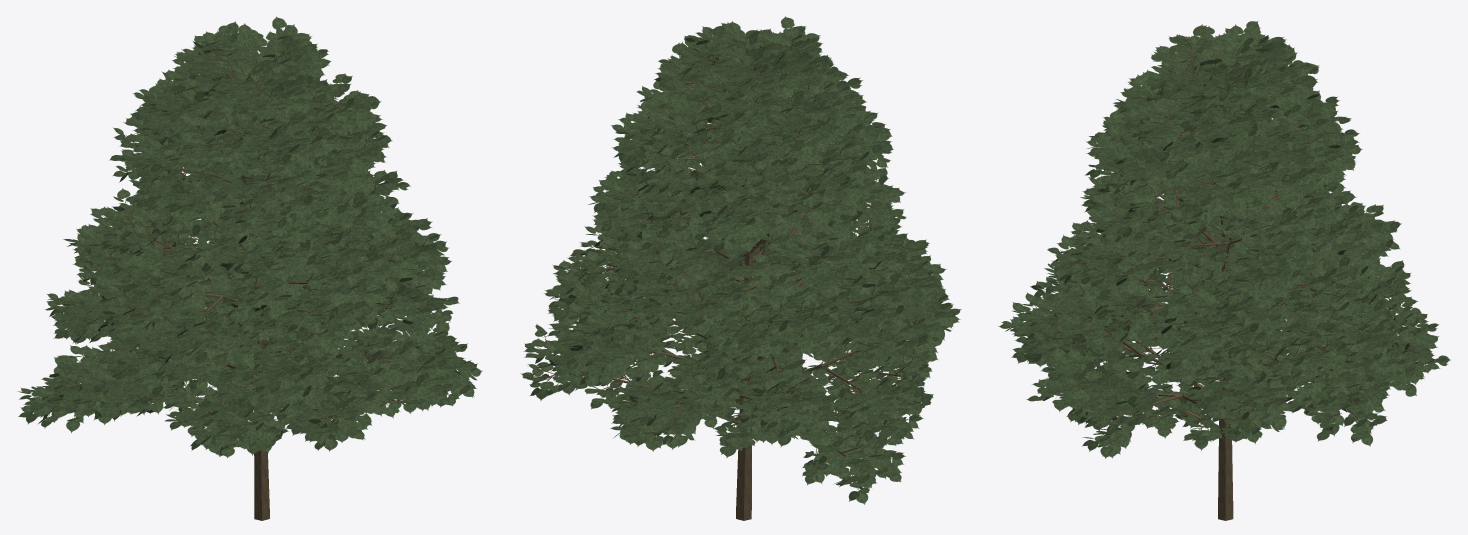
Rendered from tree-04.glb.
3 views of the same model, side by side, from view 1: azimuth 30°, elevation 25°; view 2: azimuth 150°, elevation 25°; view 3: azimuth 270°, elevation 25° (orthographic). The views are drawn at different scales.
Visible parts, largest first — view 1: Tilia_europaea_mature_01_LoD2B; view 2: Tilia_europaea_mature_01_LoD2B; view 3: Tilia_europaea_mature_01_LoD2B.
Boxes of the visible parts, <box> form: Tilia_europaea_mature_01_LoD2B: <box>17,16,482,520</box>; Tilia_europaea_mature_01_LoD2B: <box>520,16,961,520</box>; Tilia_europaea_mature_01_LoD2B: <box>998,21,1450,520</box>.
Size of the model in its own units: 15.31 by 18.23 by 15.82.
Materials: 2 (2 with a texture image).
